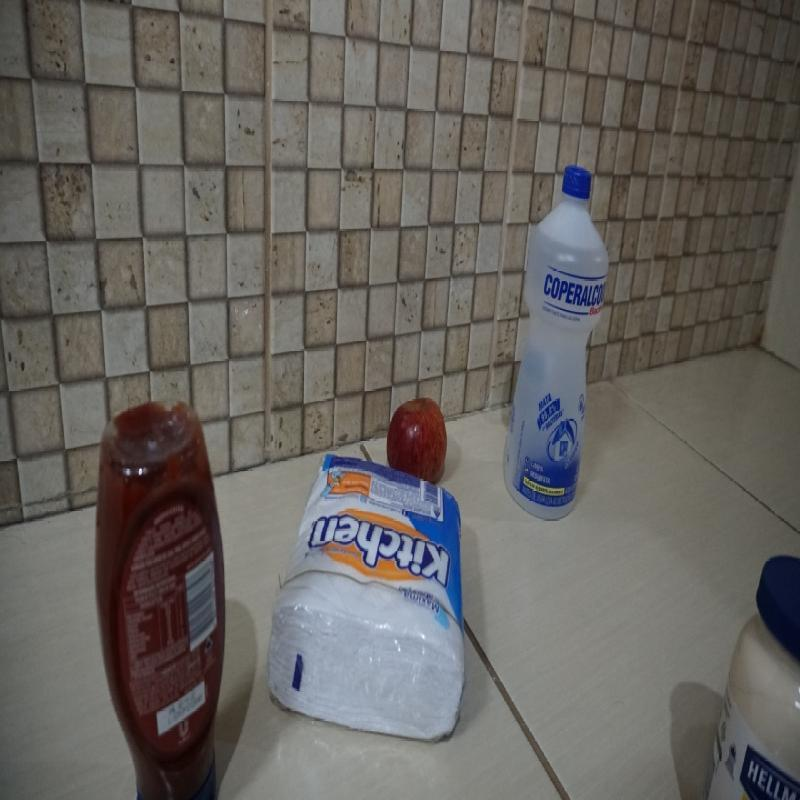Alcohol Bottle: (503, 166, 608, 520)
Apple: (384, 397, 452, 486)
Ketchup: (96, 400, 230, 800)
Mayonnaise: (704, 553, 800, 800)
Napkin: (266, 455, 466, 743)
